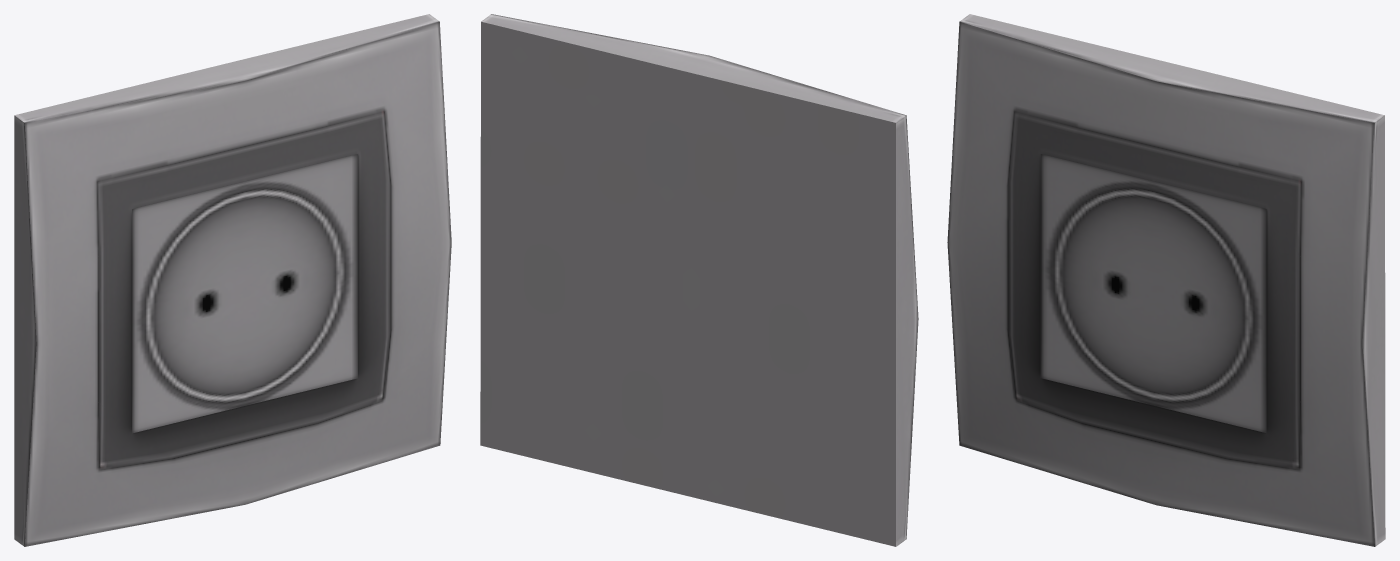
File: SwitchA.FBX
3 renders of one model, left to right at view 1: azimuth 30°, elevation 25°; view 2: azimuth 150°, elevation 25°; view 3: azimuth 330°, elevation 25°, orthographic.
Parts seen in each view (by area): view 1: SwitchA; view 2: SwitchA; view 3: SwitchA.
Boxes of the visible parts, bbox=[...] form: SwitchA: bbox=[14, 14, 451, 546]; SwitchA: bbox=[480, 14, 918, 546]; SwitchA: bbox=[947, 14, 1385, 546].
Size of the model in its own units: 9.12 by 0.8897 by 8.89.
